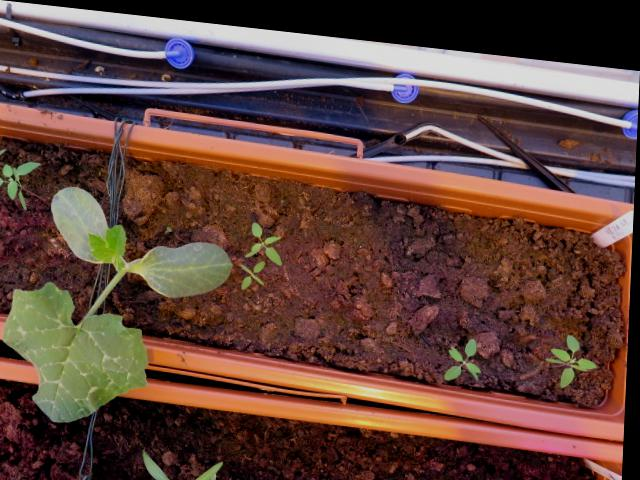weed: (542, 311, 605, 382), (438, 319, 486, 374)
